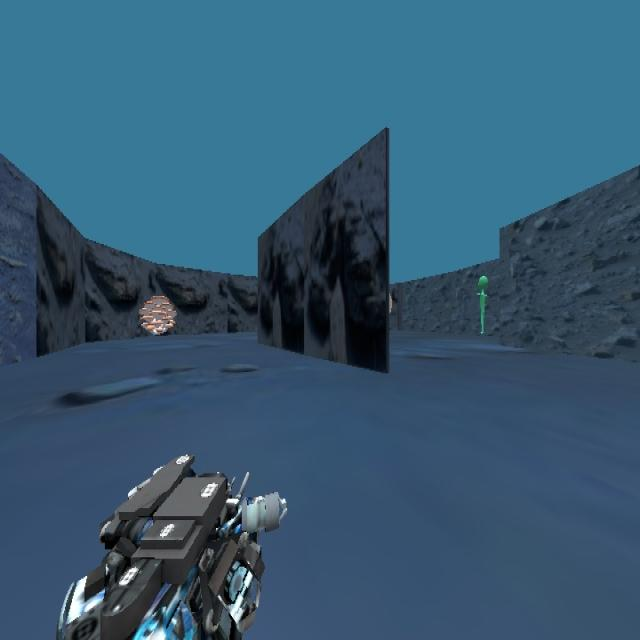Alien: (476, 273, 488, 335)
Mushroom: (118, 281, 209, 344)
